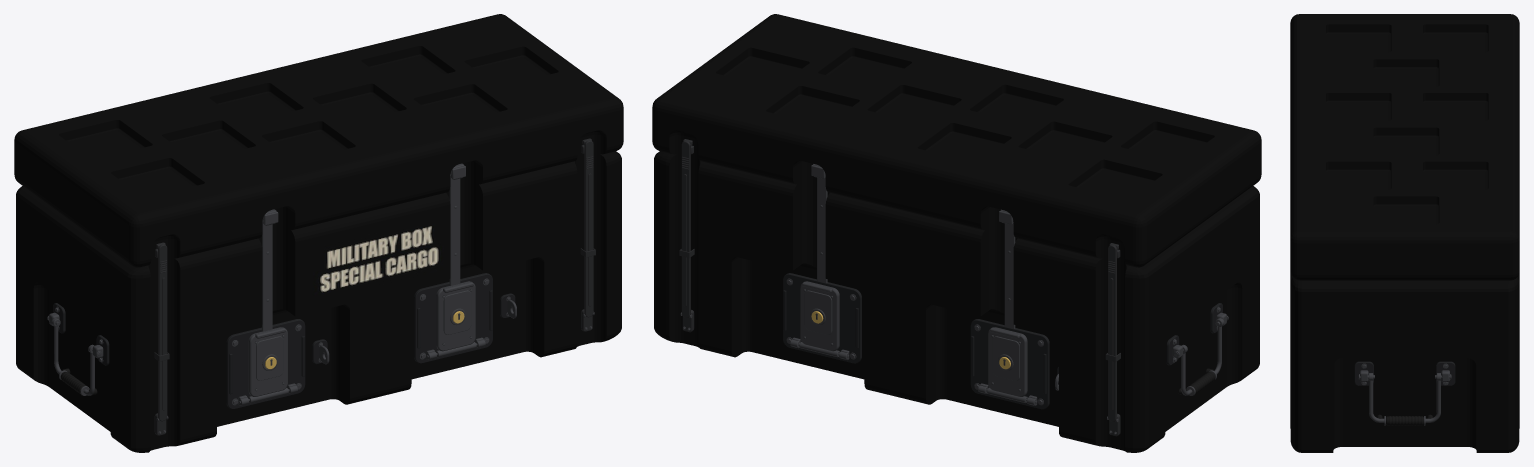
The model's file is cargo_case.glb.
The picture shows the model from 3 angles, left to right: view 1: azimuth 30°, elevation 25°; view 2: azimuth 150°, elevation 25°; view 3: azimuth 270°, elevation 25°; orthographic projection. The views are drawn at different scales.
Visible parts, largest first — view 1: Cube, Cube.001, Latch_Front_1_BasePlate, Latch_Front_2_BasePlate, CornerLatch_Front_2_Arm, Latch_Front_1_Arm, Latch_Front_2_Arm, CornerLatch_Front_1_Arm, Latch_Front_2_DrawStrap, Latch_Front_1_DrawStrap, Latch_Front_2_ArmRib, Latch_Front_1_ArmRib; view 2: Cube, Cube.001, Latch_Back_1_BasePlate, Latch_Back_2_BasePlate, Latch_Back_1_Arm, Latch_Back_2_Arm, CornerLatch_Back_2_Arm, CornerLatch_Back_1_Arm, Latch_Back_1_DrawStrap, Latch_Back_2_ArmRib, Latch_Back_2_DrawStrap, Latch_Back_1_ArmRib; view 3: Cube.001, Cube, Handle_Right_Arm, Handle_Right_Grip, Handle_Right_Plate_A, Handle_Right_Plate_B.
Part boxes in pixels (x1,y1,x2,y2): Cube: (16, 151, 621, 452); Cube.001: (14, 14, 623, 267); Latch_Front_1_BasePlate: (226, 319, 305, 409); Latch_Front_2_BasePlate: (414, 273, 492, 363); CornerLatch_Front_2_Arm: (584, 140, 593, 317); Latch_Front_1_Arm: (248, 327, 287, 396); Latch_Front_2_Arm: (436, 281, 475, 351); CornerLatch_Front_1_Arm: (158, 244, 167, 421); Latch_Front_2_DrawStrap: (449, 174, 460, 285); Latch_Front_1_DrawStrap: (262, 220, 272, 331); Latch_Front_2_ArmRib: (443, 290, 471, 334); Latch_Front_1_ArmRib: (256, 336, 283, 380); Cube: (654, 151, 1259, 452); Cube.001: (652, 14, 1261, 267); Latch_Back_1_BasePlate: (970, 319, 1049, 409); Latch_Back_2_BasePlate: (783, 273, 861, 363); Latch_Back_1_Arm: (988, 327, 1027, 396); Latch_Back_2_Arm: (800, 281, 839, 351); CornerLatch_Back_2_Arm: (681, 140, 690, 317); CornerLatch_Back_1_Arm: (1108, 244, 1116, 421); Latch_Back_1_DrawStrap: (1004, 223, 1015, 329); Latch_Back_2_ArmRib: (804, 290, 832, 334); Latch_Back_2_DrawStrap: (817, 177, 827, 283); Latch_Back_1_ArmRib: (992, 336, 1019, 380); Cube.001: (1290, 14, 1519, 280); Cube: (1290, 272, 1519, 452); Handle_Right_Arm: (1369, 380, 1440, 422); Handle_Right_Grip: (1386, 416, 1423, 425); Handle_Right_Plate_A: (1354, 361, 1373, 385); Handle_Right_Plate_B: (1436, 361, 1455, 385).
Bounding box in the file's own units: 5.48 × 2.55 × 2.37.
Materials: 6 (6 with a texture image).
